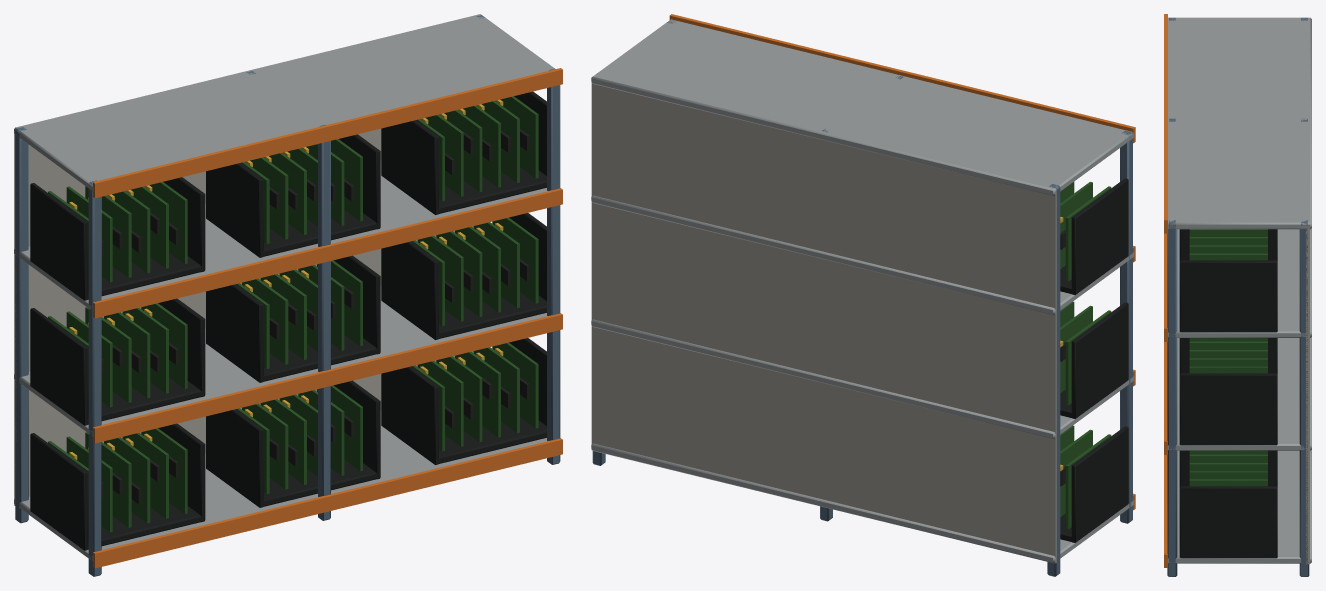
The model's file is 201_rayon_cpu.fbx.
The picture shows the model from 3 angles, left to right: view 1: azimuth 30°, elevation 25°; view 2: azimuth 150°, elevation 25°; view 3: azimuth 270°, elevation 25°; orthographic projection. The views are drawn at different scales.
Visible parts, largest first — view 1: Articles, Rayon; view 2: Rayon, Articles; view 3: Rayon, Articles.
Boxes of the visible parts, x1,y1,x2,y2 form: Articles: (30,91,546,550); Rayon: (14,14,562,576); Rayon: (591,14,1135,576); Articles: (1060,178,1128,542); Rayon: (1164,14,1311,576); Articles: (1179,229,1277,558).
Bounding box in the file's own units: 2.8 × 2.24 × 0.84.
Materials: 1 (1 with a texture image).
